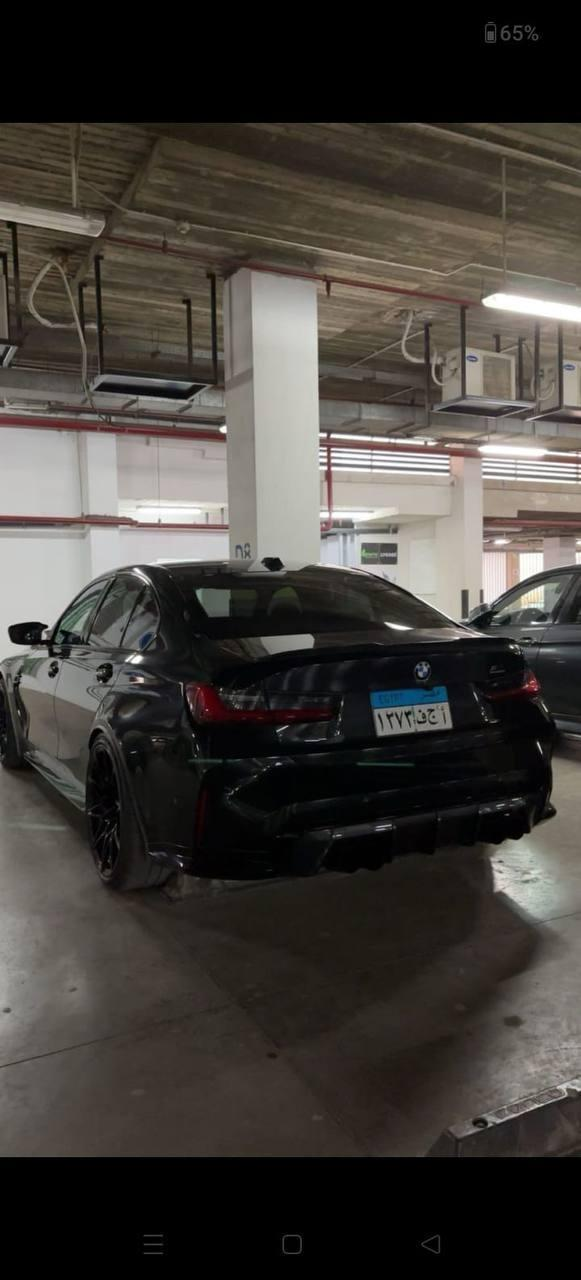1: (374, 712, 388, 734)
3: (402, 706, 415, 729), (386, 707, 395, 729)
7: (392, 704, 410, 732)
F: (415, 707, 430, 727)
License Plate: (368, 686, 453, 738)
alef: (435, 703, 451, 722)
geem: (426, 704, 438, 728)
